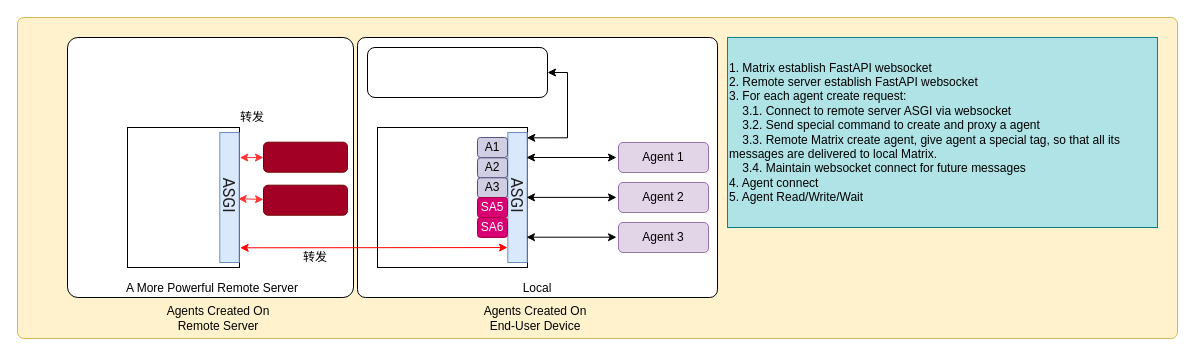
This 1195x356 diagram has some shape labels left out. Each missing label, with the box of its shape:
AgentCraft (Unreal Engine 5): (366, 46, 548, 98)
Master Matrix: (376, 126, 528, 268)
Master Matrix Pure Server: (126, 126, 240, 268)
Super Agent 5: (262, 141, 348, 172)
Super Agent 6: (262, 184, 348, 215)
